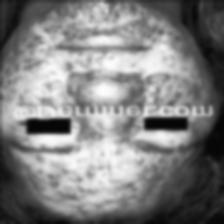Non-Cancerous Skin Condition: (18, 3, 188, 200)
